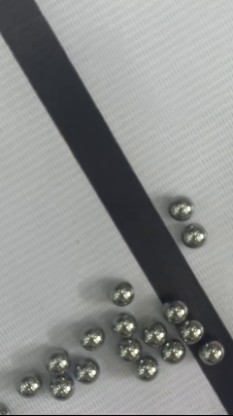ironball: (166, 193, 199, 226), (13, 371, 49, 399), (157, 297, 194, 323), (42, 345, 71, 375), (108, 312, 138, 339), (73, 356, 103, 382), (198, 334, 222, 365), (178, 317, 205, 344), (108, 277, 131, 307), (180, 224, 206, 250), (160, 336, 185, 363), (77, 323, 104, 348), (49, 375, 74, 401), (132, 352, 156, 379), (116, 338, 143, 361), (142, 322, 164, 345)
